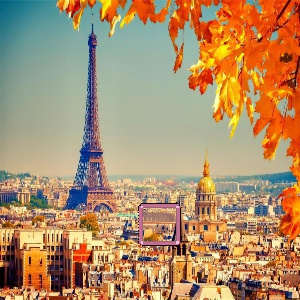square: (137, 202, 182, 247)
